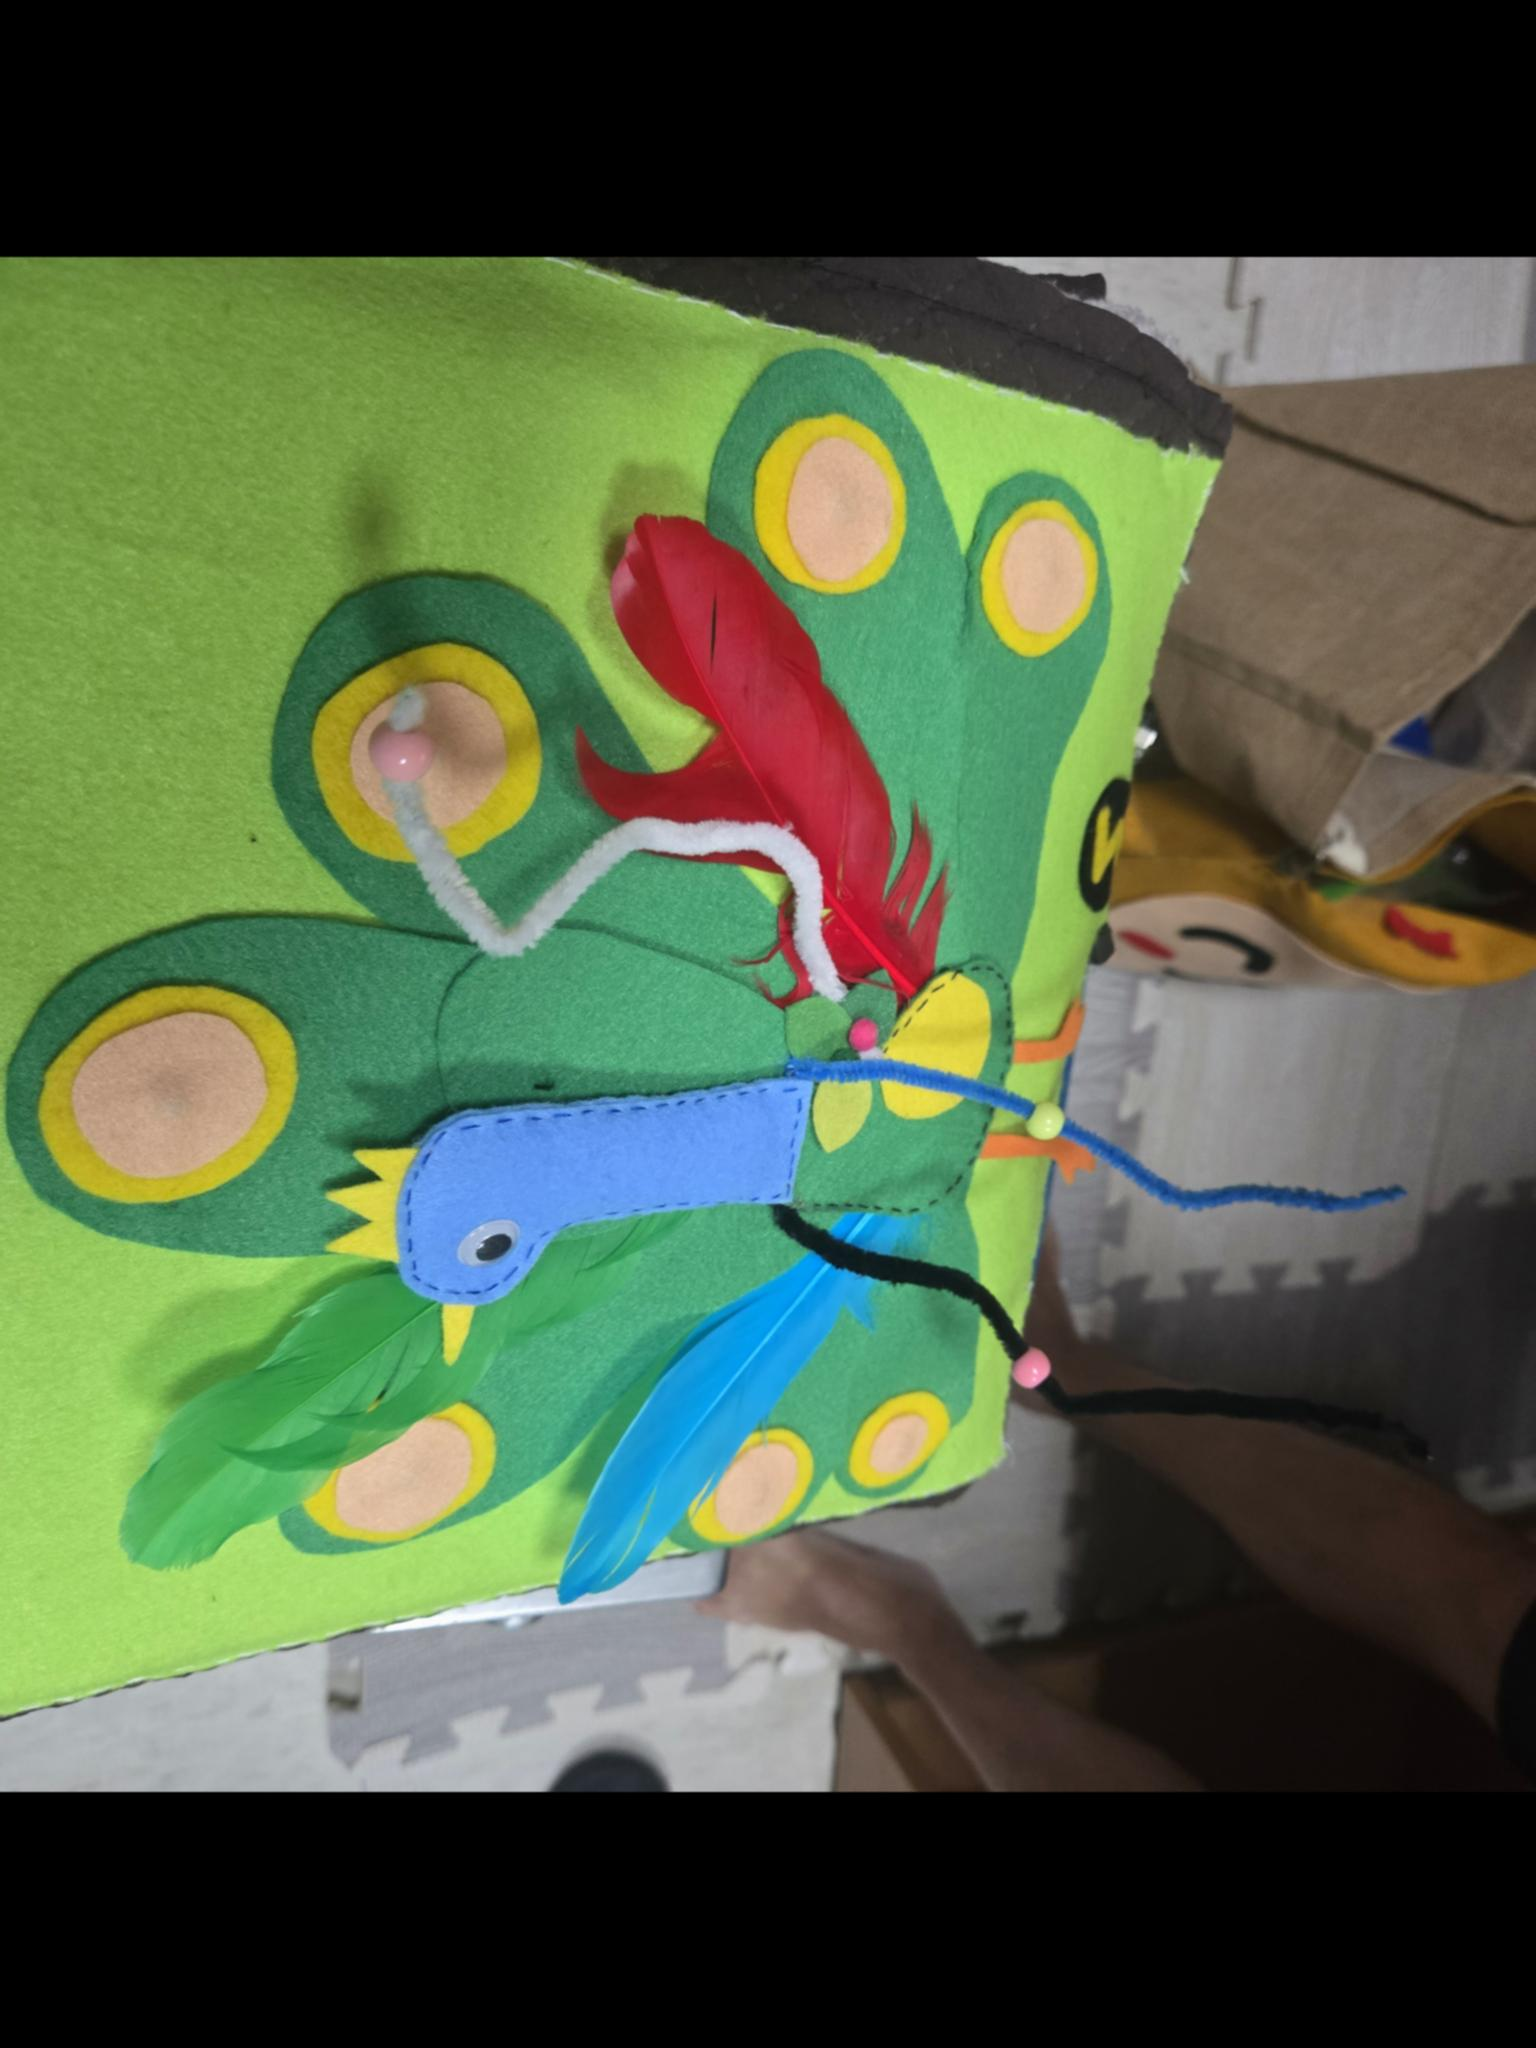bead: (345, 708, 460, 790), (983, 1342, 1070, 1405), (995, 1092, 1084, 1151)
